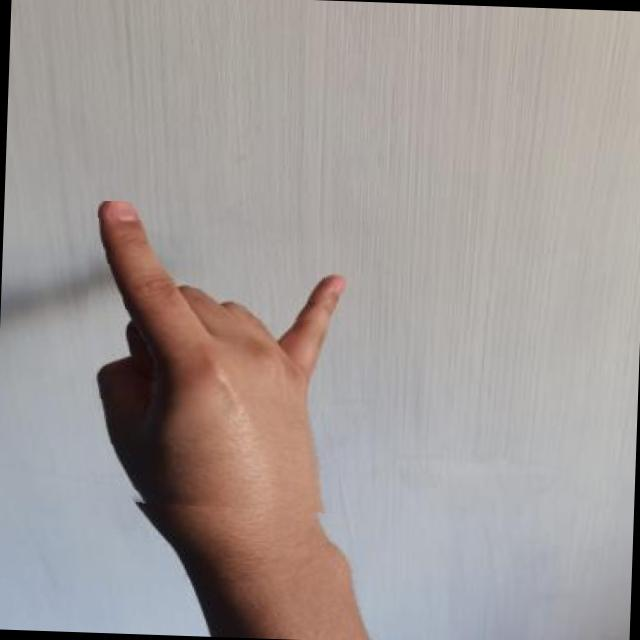U: (79, 200, 348, 514)
